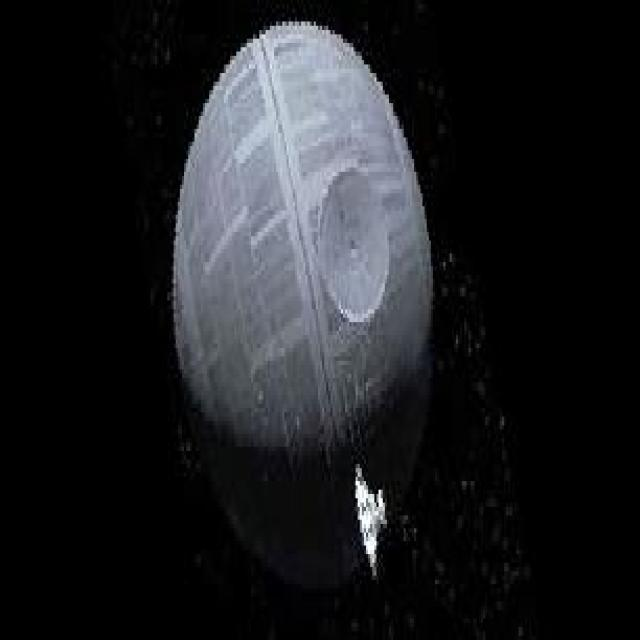Death Star: (170, 19, 450, 596)
